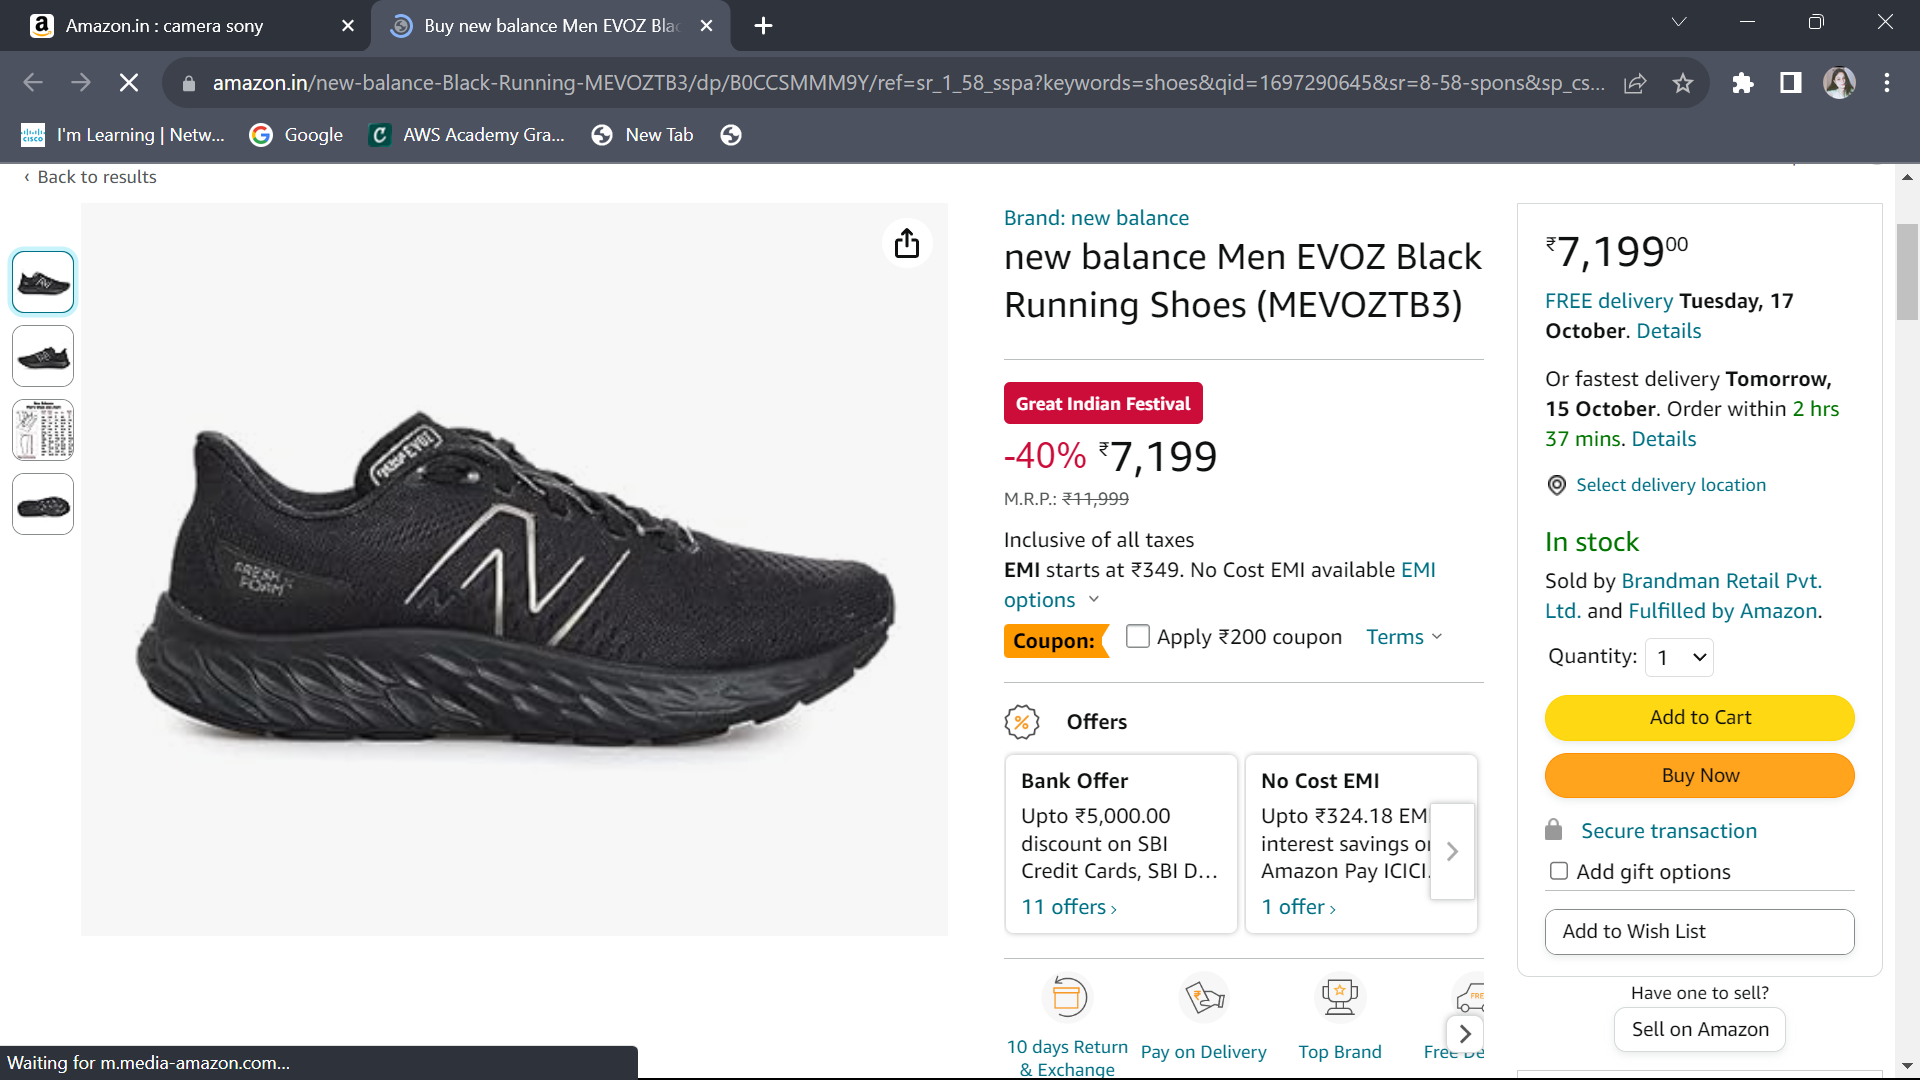Image: (149, 262, 919, 931)
Paragraph: (992, 687, 1511, 973), (1004, 222, 1505, 373), (1516, 286, 1863, 477), (1001, 526, 1490, 609), (1532, 517, 1845, 640), (1547, 699, 1863, 810), (997, 406, 1254, 517), (992, 624, 1457, 675), (1540, 818, 1800, 905), (1552, 907, 1857, 980), (1540, 222, 1729, 295), (1544, 481, 1783, 517), (1540, 645, 1738, 687)
